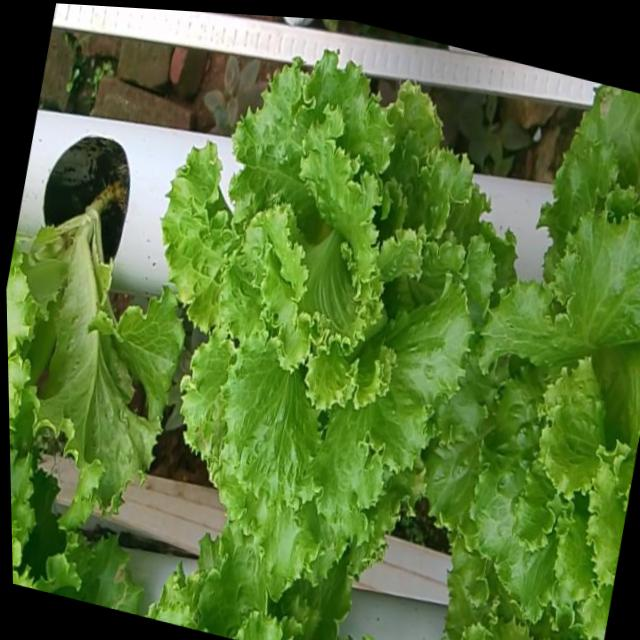Mature: (163, 37, 501, 577), (428, 187, 640, 613)
